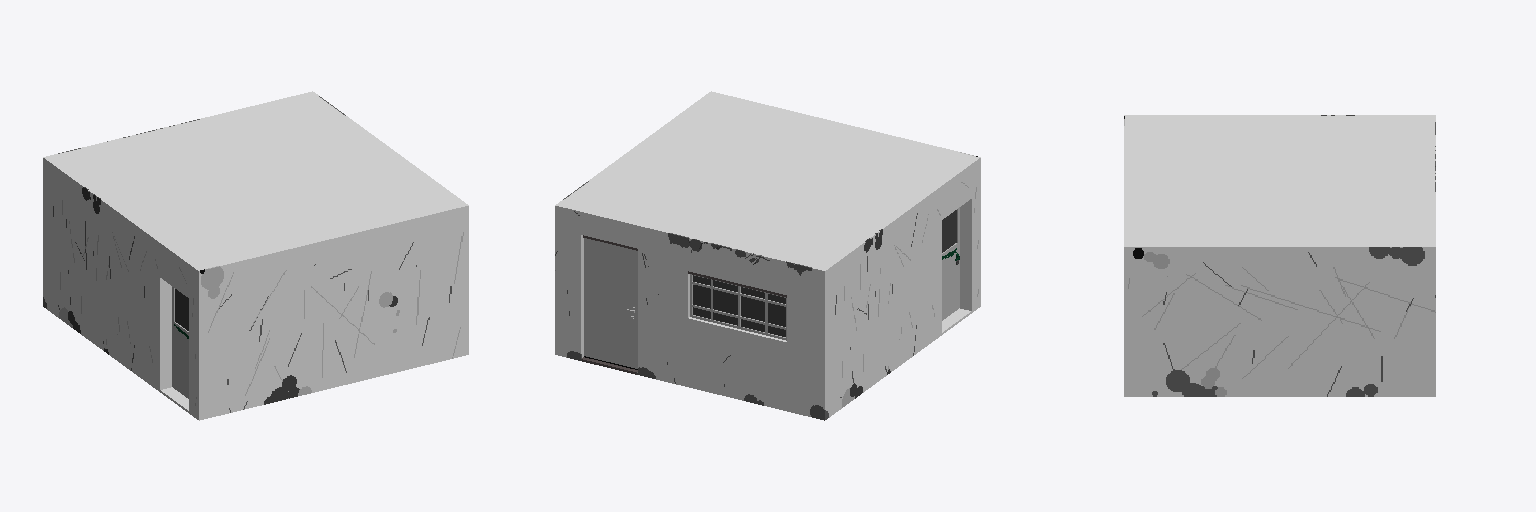
3 views of the same model, side by side, from view 1: azimuth 30°, elevation 25°; view 2: azimuth 150°, elevation 25°; view 3: azimuth 270°, elevation 25° (orthographic).
Visible parts, largest first — view 1: object 1; view 2: object 1; view 3: object 1.
Boxes of the visible parts, x1,y1,x2,y2 form: object 1: [43, 91, 468, 420]; object 1: [555, 91, 980, 420]; object 1: [1124, 115, 1435, 396].
Size of the model in its own units: 24.6 by 13 by 24.6.
Materials: 1 (1 with a texture image).